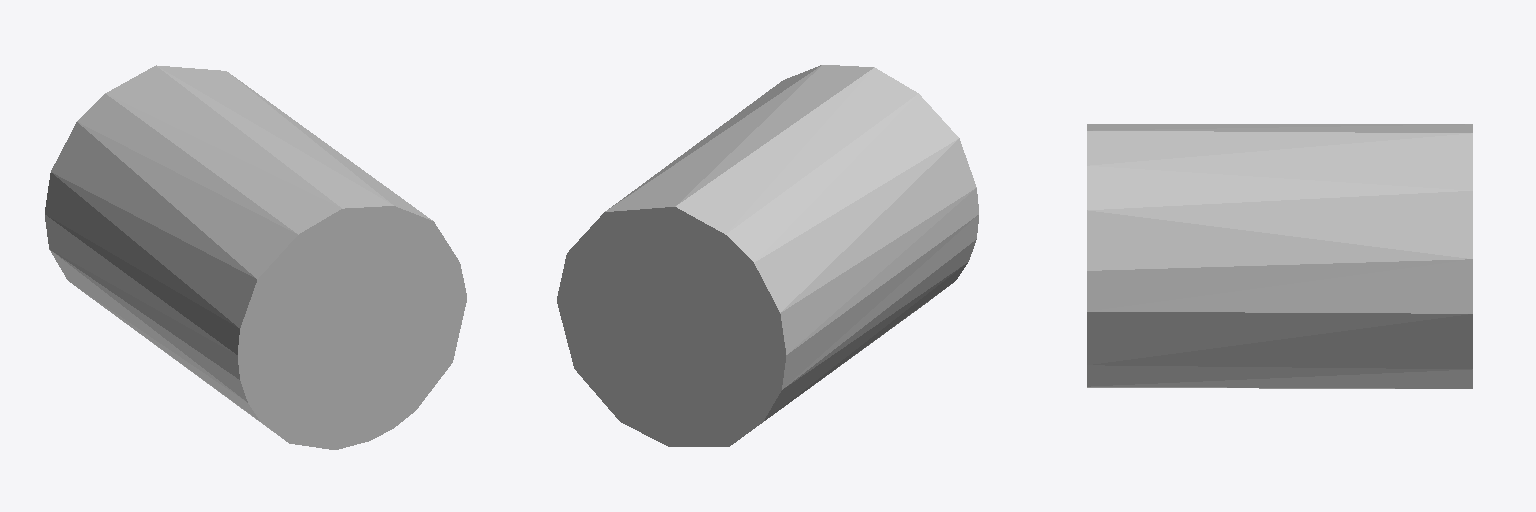
File: cylinder_collision_medium.obj
3 views of the same model, side by side, from view 1: azimuth 30°, elevation 25°; view 2: azimuth 150°, elevation 25°; view 3: azimuth 270°, elevation 25° (orthographic).
Size of the model in its own units: 0.0654 by 0.0656 by 0.095.